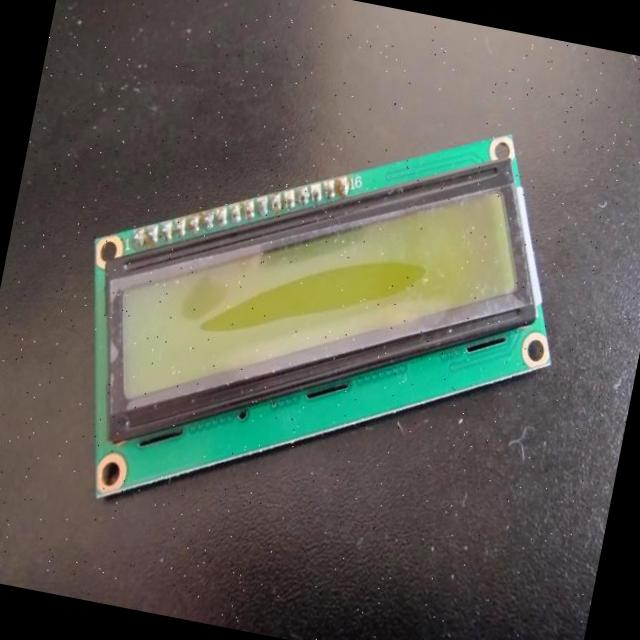lcd: (45, 59, 592, 578)
